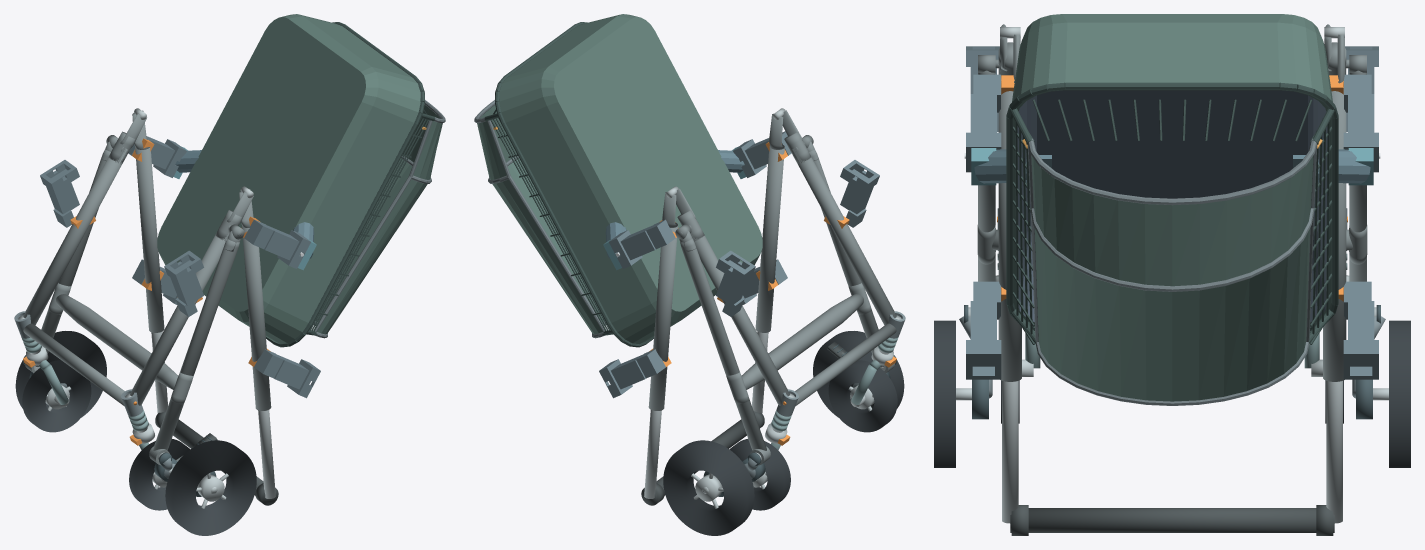
The model's file is S03_w550_state3_wheel_S.glb.
3 views of the same model, side by side, from view 1: azimuth 30°, elevation 25°; view 2: azimuth 150°, elevation 25°; view 3: azimuth 270°, elevation 25° (orthographic). The views are drawn at different scales.
Parts seen in each view (by area): view 1: S03_Cabin, RL_tire.002, FR_tire.002, main_lower_1.003, main_upper_1.003, V46_rear_leg_-1.003, main_upper_-1.003, V46_rearbar.003, main_lower_-1.003, RR_tire.002, FL_tire.002, Universal_Cabin_Receiver_H_-1 (+11 smaller); view 2: S03_Cabin, RR_tire.002, FL_tire.002, main_lower_-1.003, main_upper_-1.003, V46_rear_leg_1.003, main_upper_1.003, V46_rearbar.003, main_lower_1.003, FR_tire.002, RL_tire.002, Universal_Cabin_Receiver_H_1 (+11 smaller); view 3: S03_Cabin, round_handle.002, RL_tire.002, RR_tire.002, Universal_Cabin_Receiver_H_1, Universal_Cabin_Receiver_H_-1, S03_Cabin_Mount_M, main_upper_1.003, main_upper_-1.003, Universal_Cabin_Receiver_M_-1, Universal_Cabin_Receiver_M_1, handle_slider_1.002 (+9 smaller).
Boxes of the visible parts, left/top/right/bottom form: S03_Cabin: left=157, top=14, right=445, bottom=347; RL_tire.002: left=165, top=440, right=256, bottom=535; FR_tire.002: left=22, top=360, right=91, bottom=432; main_lower_1.003: left=23, top=148, right=127, bottom=325; main_upper_1.003: left=135, top=147, right=164, bottom=332; V46_rear_leg_-1.003: left=153, top=238, right=239, bottom=450; main_upper_-1.003: left=242, top=226, right=271, bottom=410; V46_rearbar.003: left=56, top=294, right=178, bottom=389; main_lower_-1.003: left=130, top=233, right=228, bottom=405; RR_tire.002: left=15, top=331, right=106, bottom=417; FL_tire.002: left=129, top=439, right=190, bottom=510; Universal_Cabin_Receiver_H_-1: left=254, top=349, right=320, bottom=398; S03_Cabin: left=474, top=14, right=762, bottom=347; RR_tire.002: left=663, top=440, right=754, bottom=535; FL_tire.002: left=828, top=360, right=897, bottom=432; main_lower_-1.003: left=792, top=148, right=896, bottom=325; main_upper_-1.003: left=755, top=145, right=784, bottom=332; V46_rear_leg_1.003: left=680, top=238, right=766, bottom=450; main_upper_1.003: left=648, top=226, right=677, bottom=410; V46_rearbar.003: left=741, top=294, right=863, bottom=389; main_lower_1.003: left=691, top=233, right=789, bottom=405; FR_tire.002: left=729, top=439, right=790, bottom=510; RL_tire.002: left=813, top=331, right=904, bottom=417; Universal_Cabin_Receiver_H_1: left=599, top=349, right=665, bottom=398; S03_Cabin: left=1006, top=14, right=1338, bottom=405; round_handle.002: left=1010, top=508, right=1334, bottom=532; RL_tire.002: left=934, top=320, right=955, bottom=467; RR_tire.002: left=1389, top=320, right=1410, bottom=467; Universal_Cabin_Receiver_H_1: left=1343, top=281, right=1378, bottom=379; Universal_Cabin_Receiver_H_-1: left=966, top=281, right=1001, bottom=379; S03_Cabin_Mount_M: left=964, top=148, right=1380, bottom=185; main_upper_1.003: left=1323, top=87, right=1346, bottom=381; main_upper_-1.003: left=998, top=87, right=1021, bottom=381; Universal_Cabin_Receiver_M_-1: left=966, top=74, right=1001, bottom=172; Universal_Cabin_Receiver_M_1: left=1343, top=74, right=1378, bottom=172; handle_slider_1.002: left=1326, top=381, right=1342, bottom=523.
Size of the model in its own units: 0.8408 by 0.9 by 0.6471.
